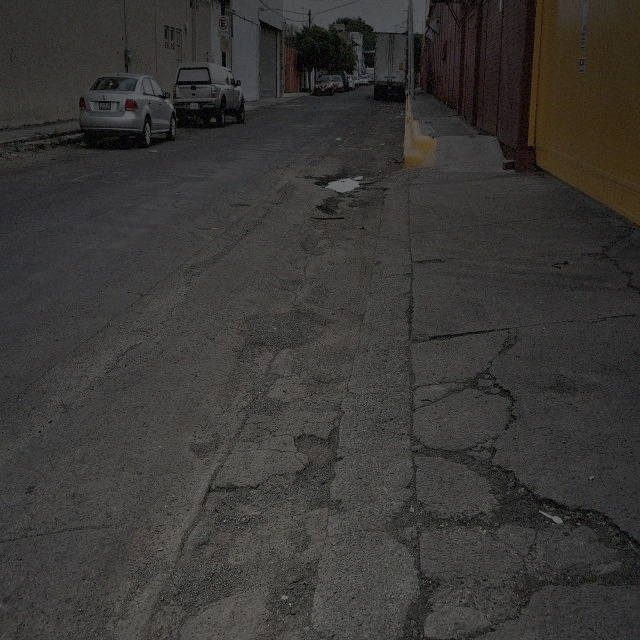pothole: (460, 446, 584, 534), (246, 422, 340, 520), (169, 549, 242, 623), (268, 559, 320, 627), (190, 484, 258, 530), (405, 572, 442, 630), (391, 489, 418, 566), (508, 556, 546, 610), (313, 167, 369, 192), (420, 440, 457, 465), (466, 366, 488, 384), (317, 197, 340, 213), (497, 380, 514, 399), (229, 199, 248, 210)
